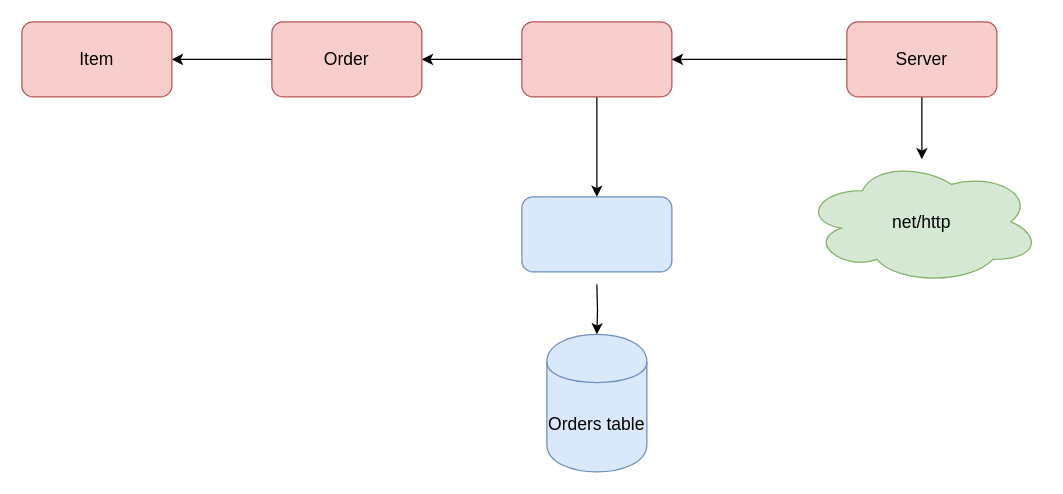
Some shapes in this 1063 by 494 pixel diagram are drawn without their labels. The box of each missing label's shape, as (x1, y1, x2, y2) in pixels:
DB: (521, 196, 672, 272)
OrderRepo: (521, 21, 672, 97)
